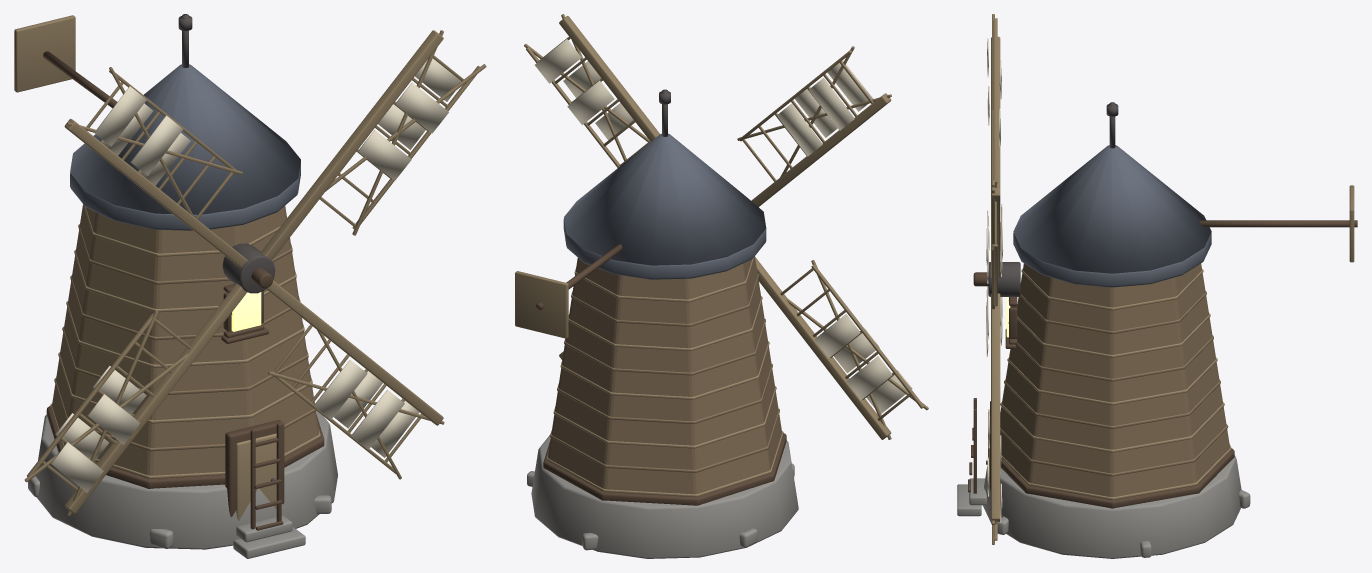
3 renders of one model, left to right at view 1: azimuth 30°, elevation 25°; view 2: azimuth 150°, elevation 25°; view 3: azimuth 270°, elevation 25°, orthographic. The views are drawn at different scales.
Visible parts, largest first — view 1: body, capTop, base, arm0, tailFrame, cap, arm2, arm3, arm1, door, sill, doorFrame (+37 smaller); view 2: body, capTop, base, tailFrame, cap, arm2, sill, arm0, arm3, cloth3_0, cloth0_3, cloth3_2 (+21 smaller); view 3: body, capTop, base, cap, arm1, sill, tailpole, hub, board0, board1, railT3, board2 (+9 smaller).
Part boxes in pixels (x1,y1,x2,y2): body: (52, 204, 318, 479); capTop: (70, 64, 300, 214); base: (35, 411, 337, 549); arm0: (260, 30, 443, 260); tailFrame: (14, 15, 75, 92); cap: (70, 162, 300, 230); arm2: (64, 283, 247, 513); arm3: (64, 118, 247, 268); arm1: (266, 280, 443, 425); door: (236, 433, 276, 520); sill: (46, 406, 324, 488); doorFrame: (225, 420, 284, 516); body: (548, 256, 782, 497); capTop: (564, 133, 766, 265); base: (531, 435, 798, 558); tailFrame: (515, 271, 568, 338); cap: (563, 219, 766, 279); arm2: (755, 257, 891, 439); sill: (543, 433, 786, 505); arm0: (559, 16, 659, 141); arm3: (751, 93, 891, 207); cloth3_0: (777, 103, 822, 156); cloth0_3: (535, 39, 581, 83); cloth3_2: (809, 78, 854, 130); body: (1000, 263, 1229, 500); capTop: (1013, 145, 1211, 273); base: (983, 444, 1241, 558); cap: (1013, 233, 1211, 287); arm1: (991, 293, 1000, 521); sill: (1001, 448, 1234, 508); tailpole: (1199, 220, 1357, 227); hub: (988, 262, 1020, 296); board0: (1001, 446, 1231, 500); board1: (1000, 424, 1228, 476); railT3: (993, 18, 997, 183); board2: (1000, 402, 1224, 452).
Bounding box in the file's own units: 7.76 × 8.13 × 6.86.
